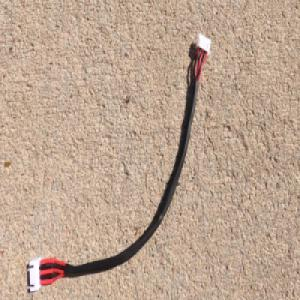Wire: (25, 25, 211, 287)
